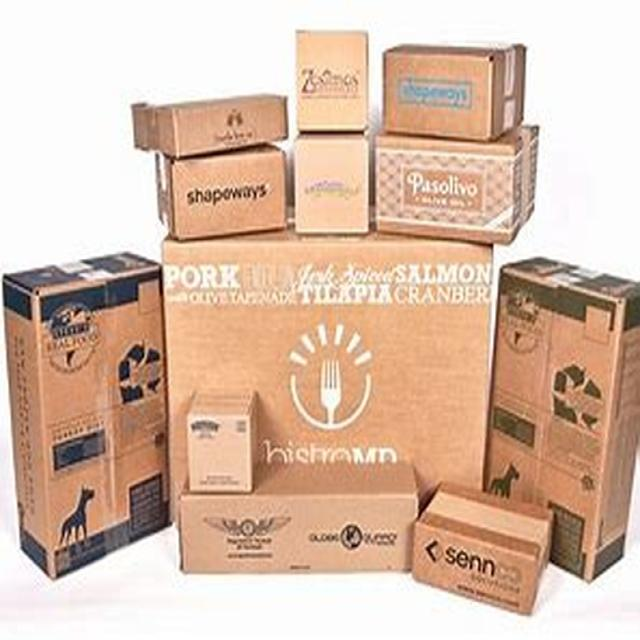box: (107, 198, 536, 487), (2, 243, 181, 608), (259, 14, 380, 232), (105, 65, 329, 179), (410, 446, 560, 602), (166, 372, 298, 541), (366, 34, 577, 138)
